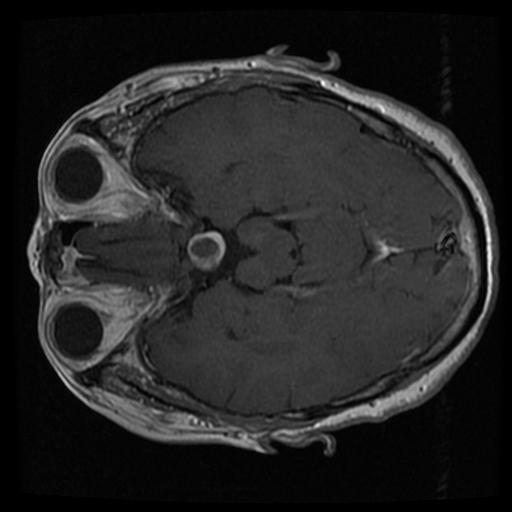pituitary tumour: (185, 231, 226, 273)
